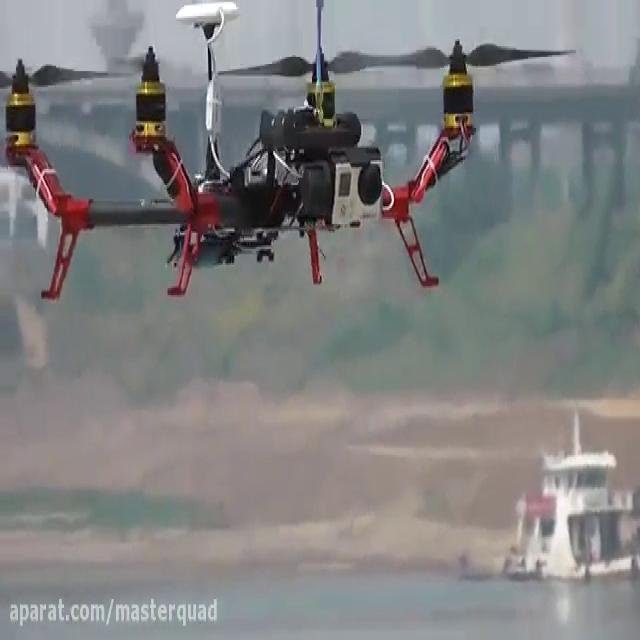drone: (0, 0, 577, 306)
